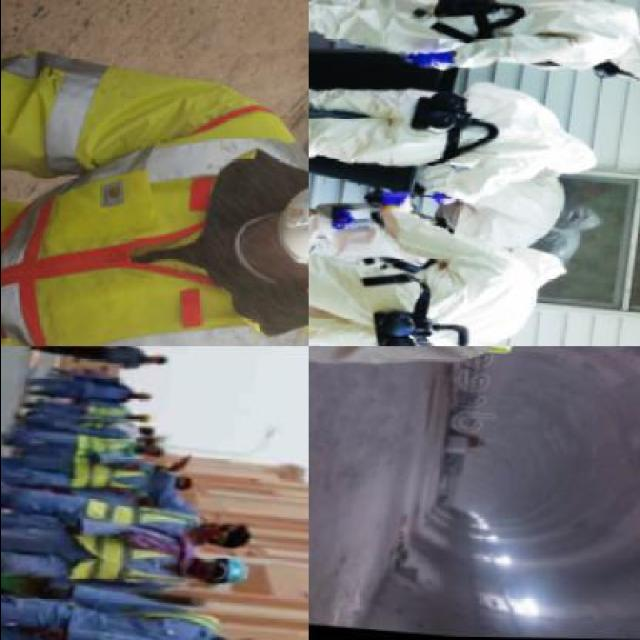helmet: (222, 554, 254, 594)
jacket: (66, 522, 186, 598), (71, 454, 151, 498)
